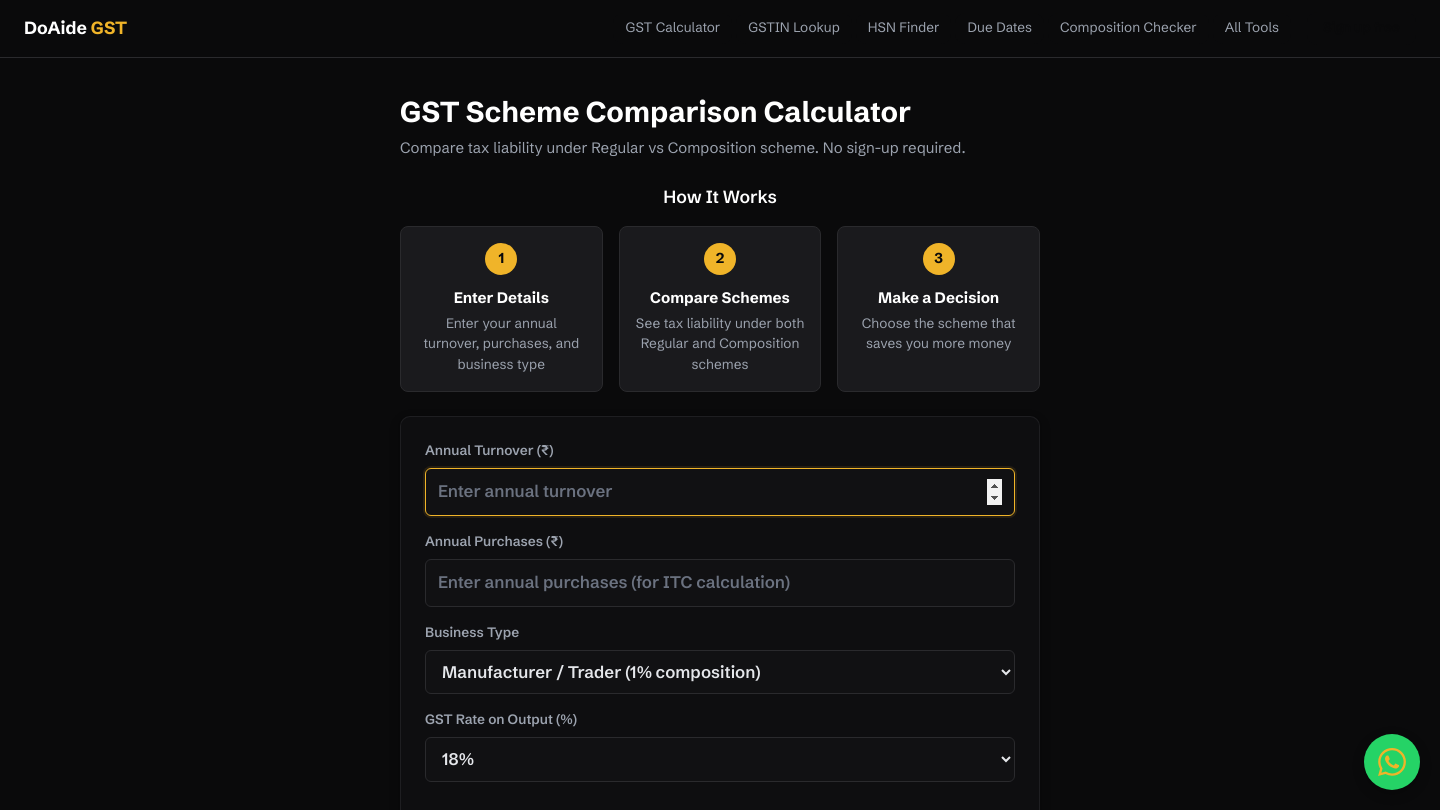
Test: SchemeComparisonPage › shows the feature comparison table
In the number field with placeholder "Enter annual turnover": (720, 492) [425,468,1015,516], type "1000000"
(page scrolled)
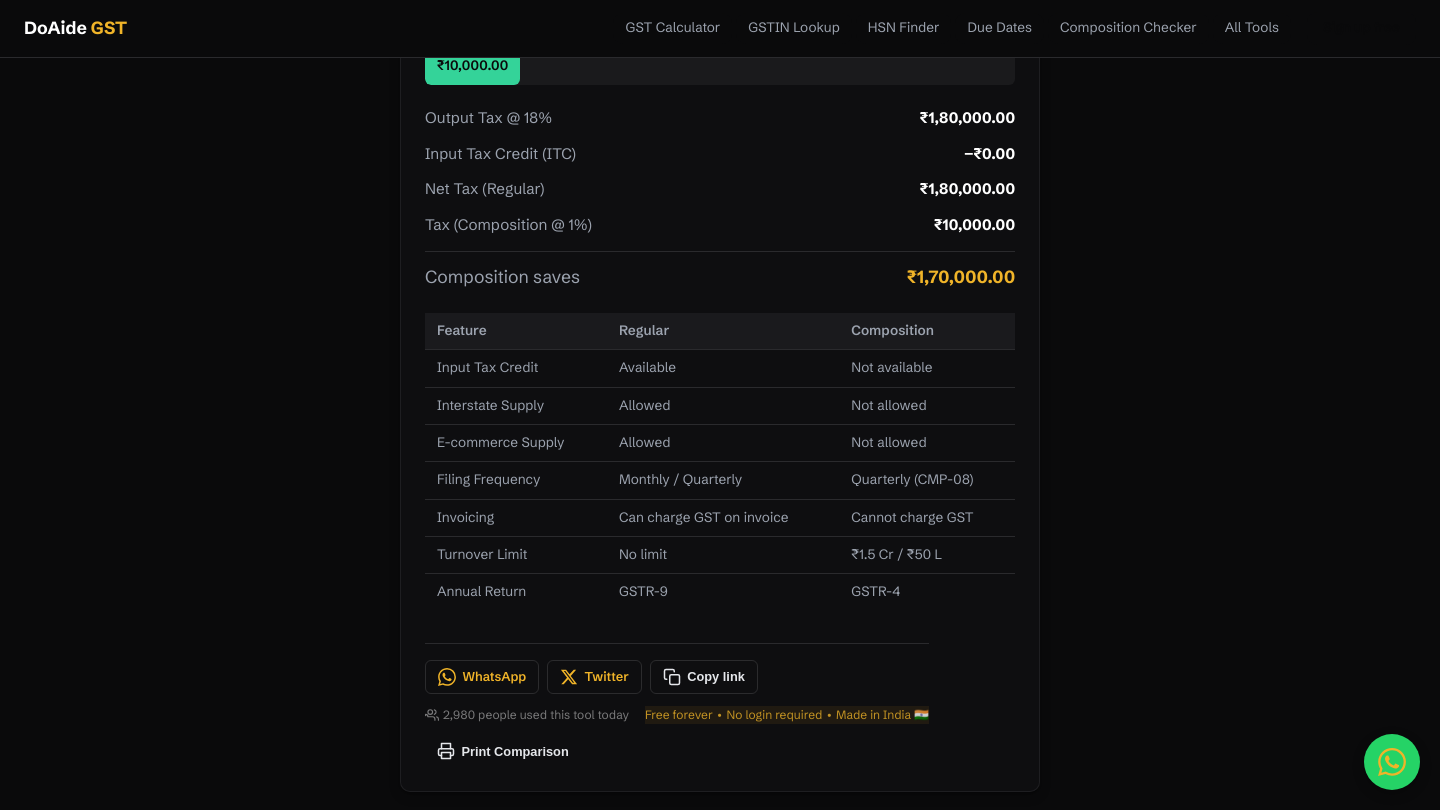
Check: the text "Input Tax Credit" is shown, box [425,350,607,387]
Check: the text "Interstate Supply" is shown, box [425,387,607,424]
